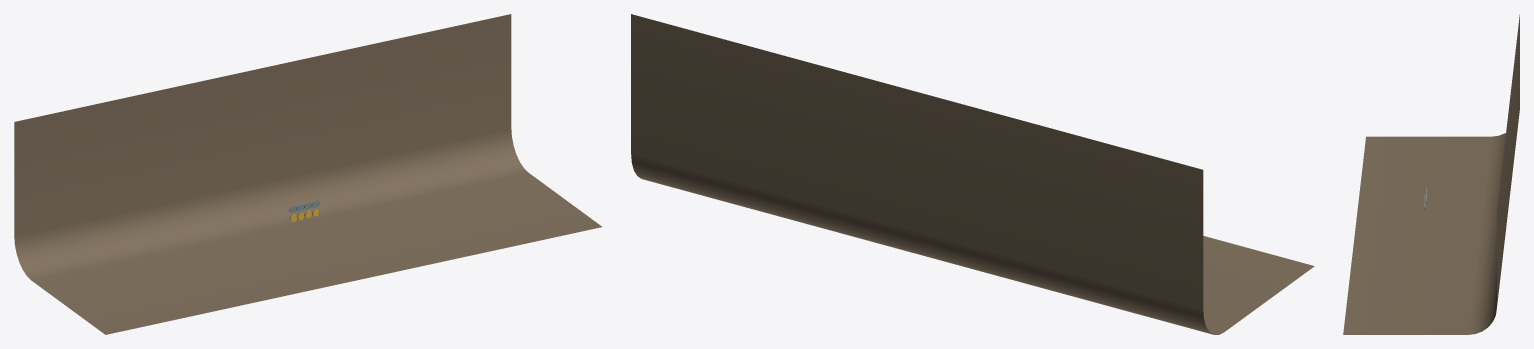
The model's file is Squid Game Dalgona Cookie.fbx.
3 renders of one model, left to right at view 1: azimuth 30°, elevation 25°; view 2: azimuth 150°, elevation 25°; view 3: azimuth 270°, elevation 25°, orthographic. The views are drawn at different scales.
Visible parts, largest first — view 1: Base; view 2: Base; view 3: Base.
Part boxes in pixels (<box>): Base: <box>14,14,601,334</box>; Base: <box>631,14,1314,334</box>; Base: <box>1343,14,1519,334</box>.
Size of the model in its own units: 603 by 174 by 227.
